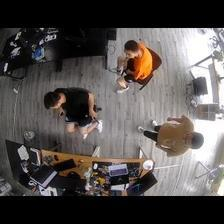normal: (44, 84, 103, 137), (137, 113, 203, 157), (111, 38, 154, 96)
